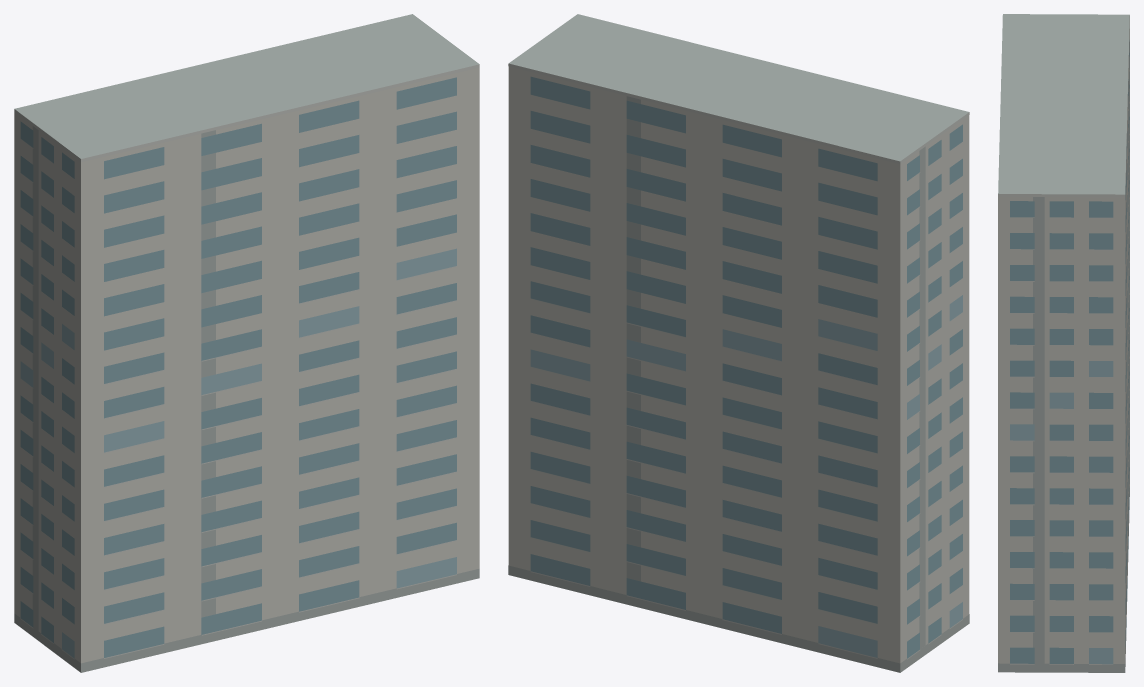
File: residential-8359c7e2-7f7a-466a-ae98-c097ee4d6a65.glb
3 renders of one model, left to right at view 1: azimuth 30°, elevation 25°; view 2: azimuth 150°, elevation 25°; view 3: azimuth 270°, elevation 25°, orthographic. The views are drawn at different scales.
Visible parts, largest first — view 1: residential-8359c7e2-7f7a-466a-ae98-c097ee4d6a65.tmp; view 2: residential-8359c7e2-7f7a-466a-ae98-c097ee4d6a65.tmp; view 3: residential-8359c7e2-7f7a-466a-ae98-c097ee4d6a65.tmp.
Part boxes in pixels (<box>): residential-8359c7e2-7f7a-466a-ae98-c097ee4d6a65.tmp: <box>14,14,479,672</box>; residential-8359c7e2-7f7a-466a-ae98-c097ee4d6a65.tmp: <box>508,14,969,672</box>; residential-8359c7e2-7f7a-466a-ae98-c097ee4d6a65.tmp: <box>998,14,1129,672</box>.
Size of the model in its own units: 33.19 by 41 by 10.24.
